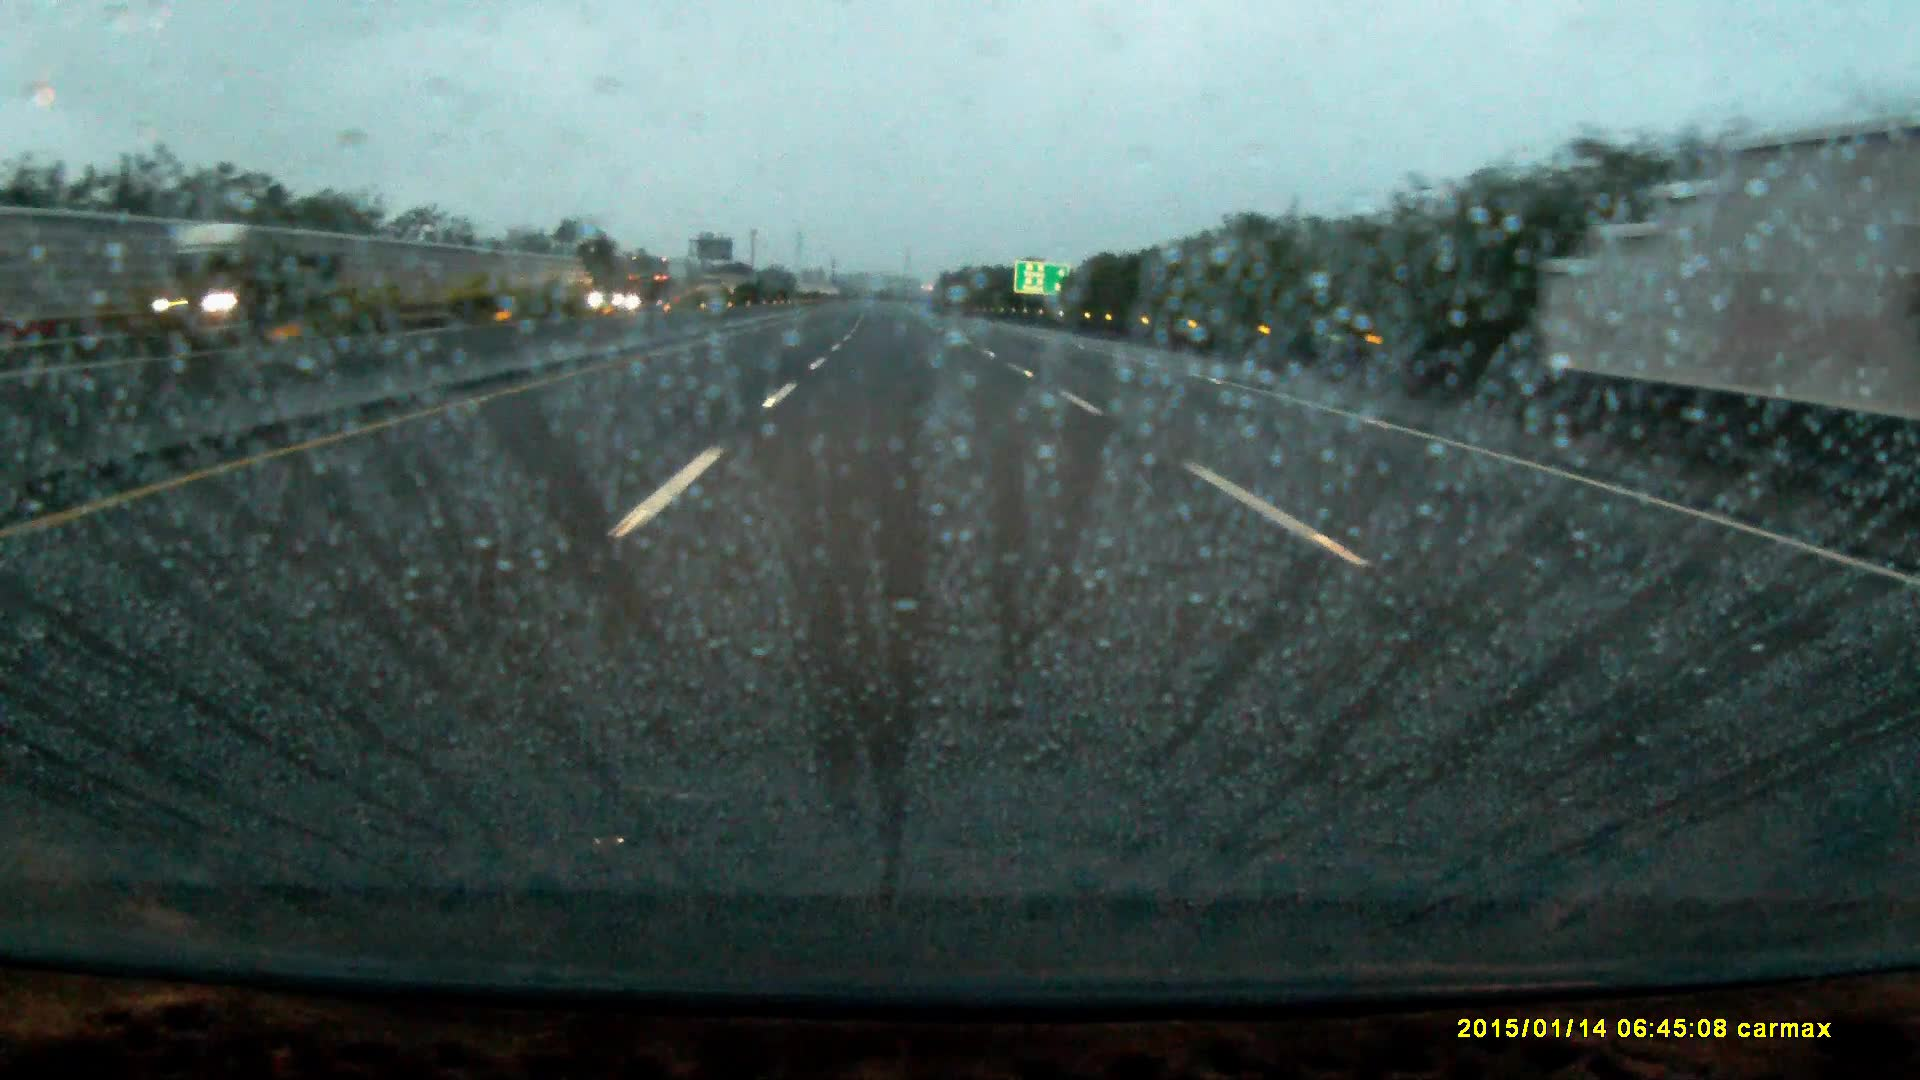vehicle: (161, 223, 330, 349), (625, 256, 690, 316)
